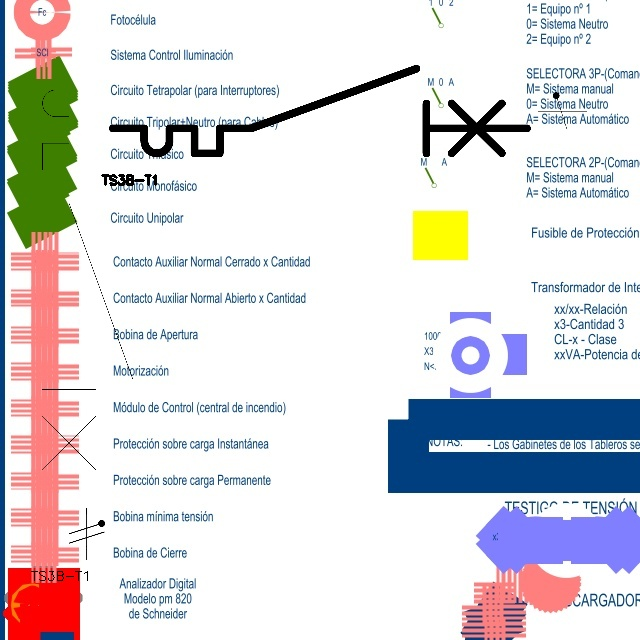interruptor_termomagnetico: (31, 45, 144, 508), (102, 58, 537, 164)
